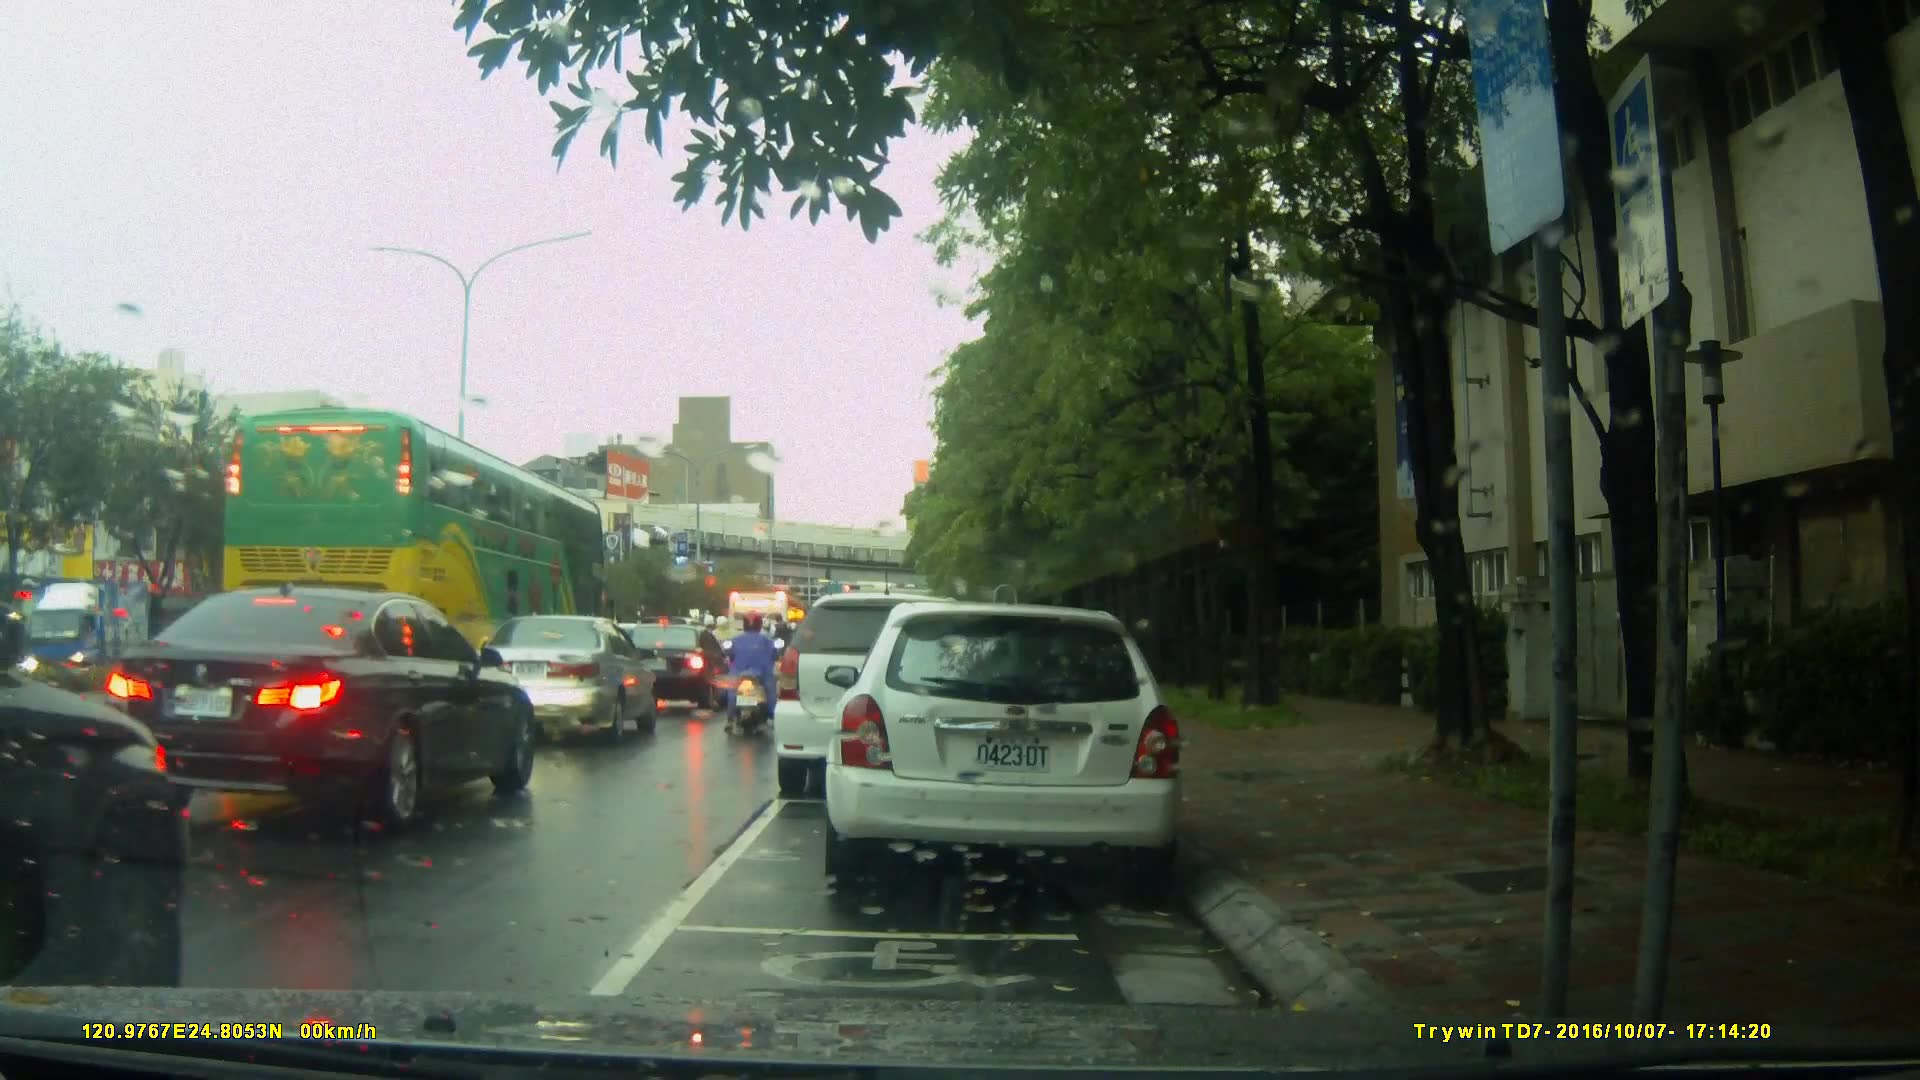rider: (717, 605, 778, 733)
vehicle: (831, 592, 1196, 897), (100, 585, 541, 833), (216, 404, 607, 657), (771, 592, 999, 796), (473, 612, 654, 748), (22, 576, 160, 682), (616, 623, 731, 715), (719, 586, 802, 705)
